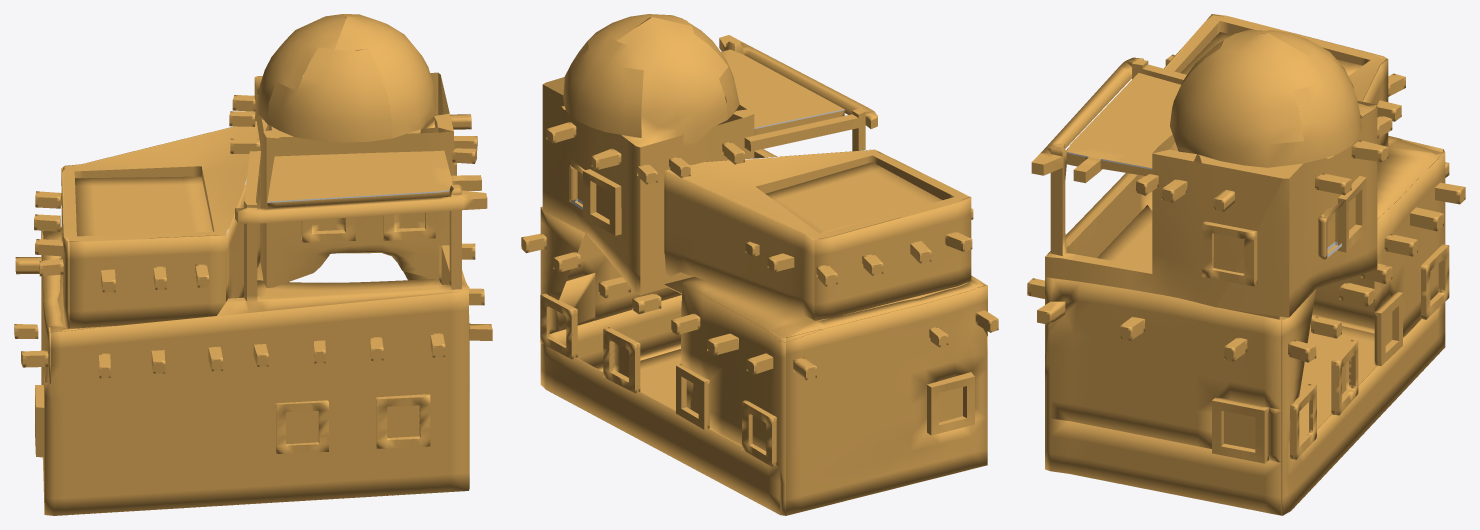
Rendered from buildings_14.fbx.
The picture shows the model from 3 angles, left to right: view 1: azimuth 30°, elevation 25°; view 2: azimuth 150°, elevation 25°; view 3: azimuth 270°, elevation 25°; orthographic projection. The views are drawn at different scales.
Parts seen in each view (by area): view 1: Retopo_Adobe_Express_file_Three_dimensional_model_of_a__57bd (×13); view 2: Retopo_Adobe_Express_file_Three_dimensional_model_of_a__57bd (×15); view 3: Retopo_Adobe_Express_file_Three_dimensional_model_of_a__57bd (×21).
Part boxes in pixels (x1,y1,x2,y2): Retopo_Adobe_Express_file_Three_dimensional_model_of_a__57bd (×13): (35,14,492,515); Retopo_Adobe_Express_file_Three_dimensional_model_of_a__57bd (×15): (540,14,987,515); Retopo_Adobe_Express_file_Three_dimensional_model_of_a__57bd (×21): (1031,14,1465,515).
Size of the model in its own units: 3573 by 2999 by 2788.
